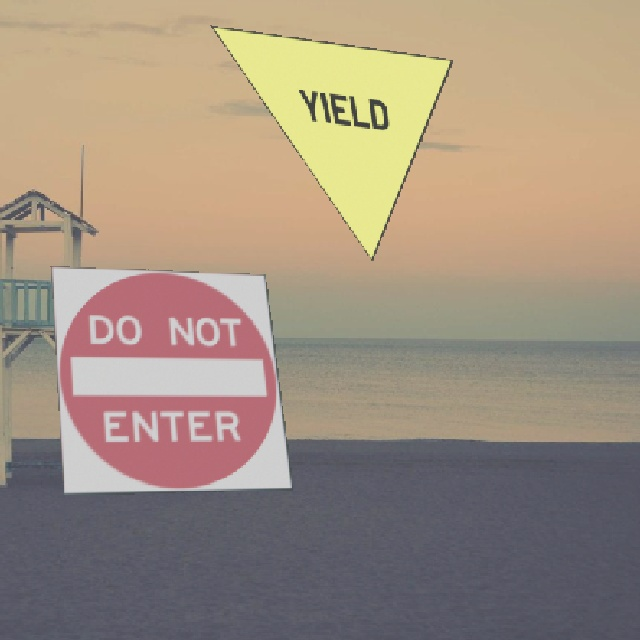DO_NOT_ENTER: (49, 264, 292, 494)
YIELD: (209, 24, 452, 260)
